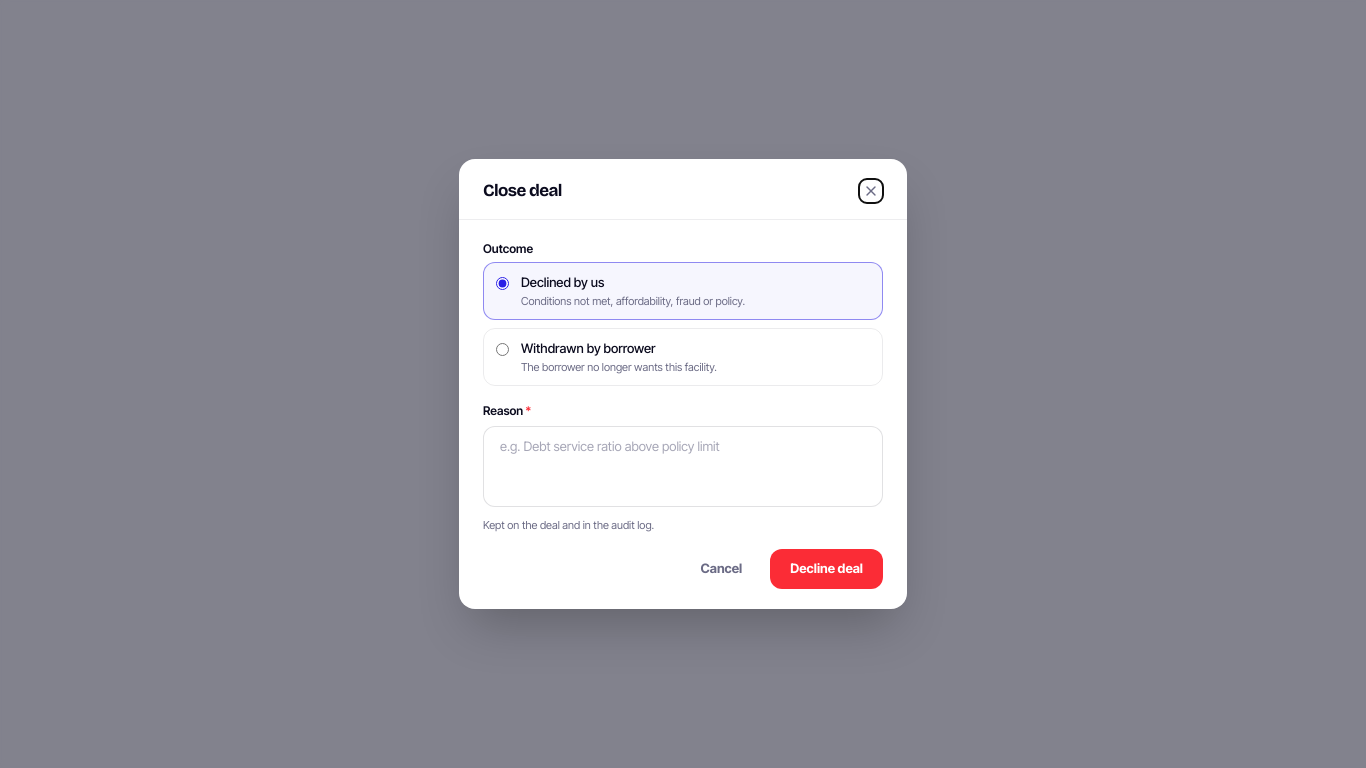
Test: close deal › requires a reason
Click the button "Decline deal". click: x=827, y=569
box: [770,549,883,589]
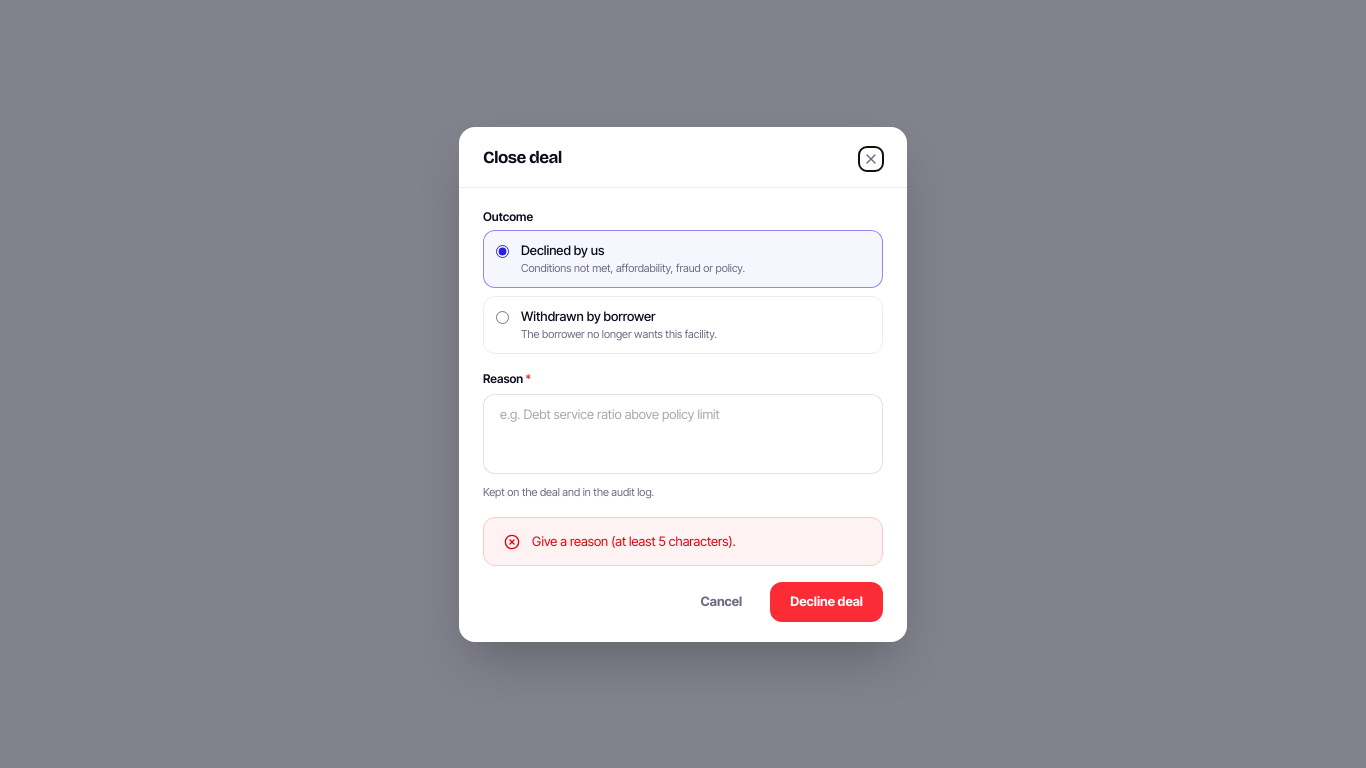
Result: the text "Give a reason" is shown at [532,532,736,548]
